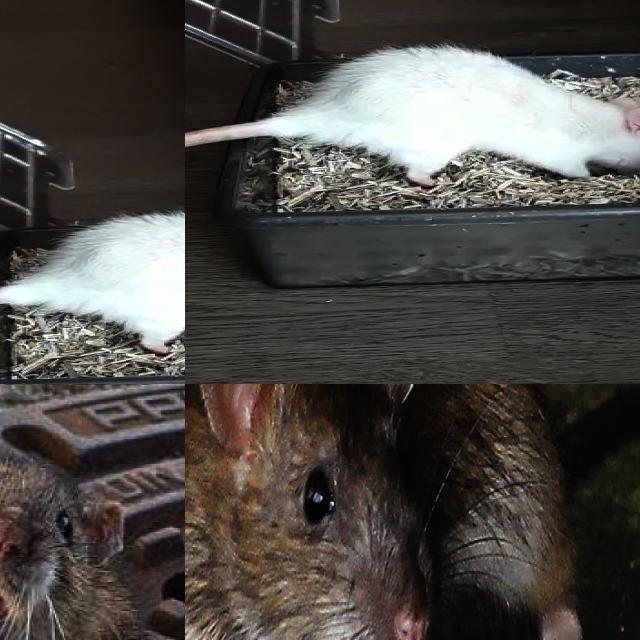rat: (185, 384, 634, 640), (288, 44, 640, 182), (0, 432, 176, 640), (25, 212, 185, 352)
